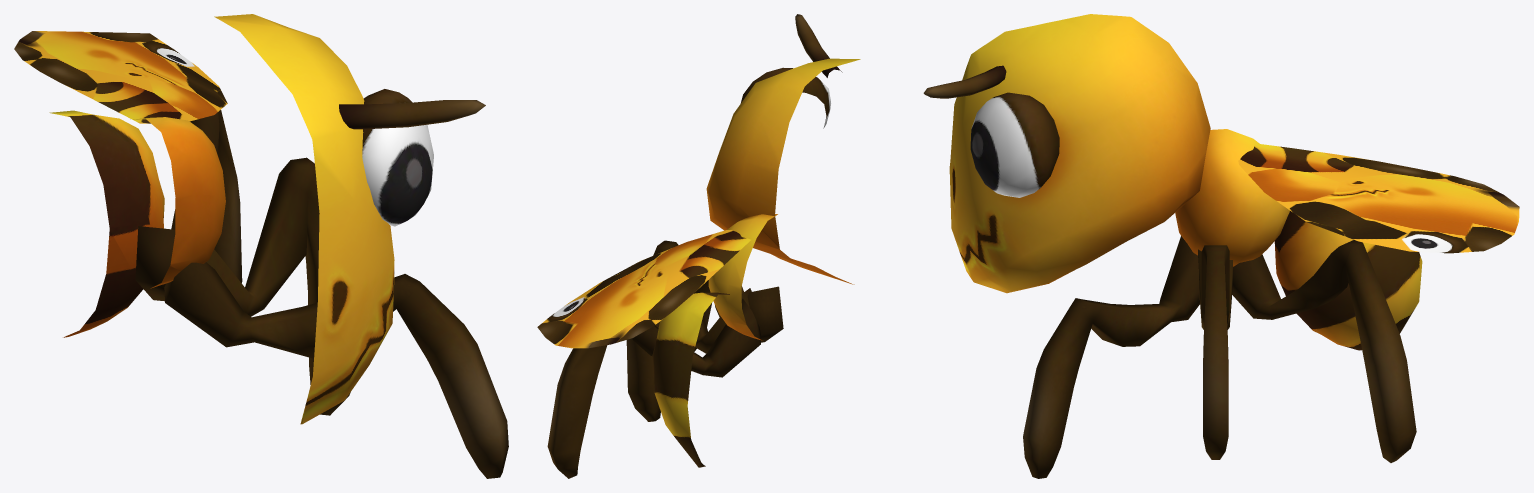
Rendered from bee_right.glb.
3 renders of one model, left to right at view 1: azimuth 30°, elevation 25°; view 2: azimuth 150°, elevation 25°; view 3: azimuth 270°, elevation 25°, orthographic. The views are drawn at different scales.
Parts seen in each view (by area): view 1: bee_right; view 2: bee_right; view 3: bee_right.
Part boxes in pixels (x1,y1,x2,y2): bee_right: (14,14,508,478); bee_right: (537,14,860,478); bee_right: (923,14,1519,478).
Size of the model in its own units: 0.4958 by 0.8788 by 1.24.
1 material, 1 textured.
